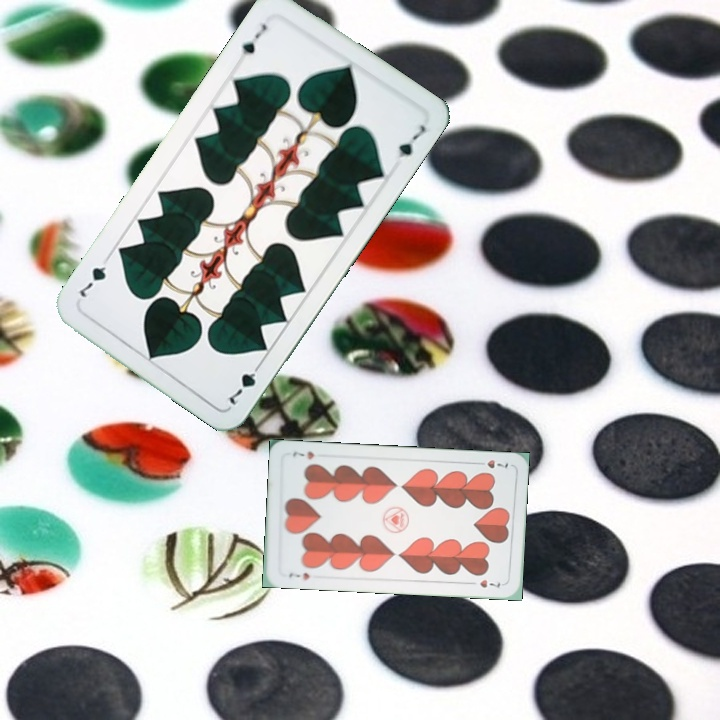G7: (223, 357, 266, 408), (237, 19, 270, 58)
H7: (472, 456, 511, 471), (284, 569, 312, 583)
